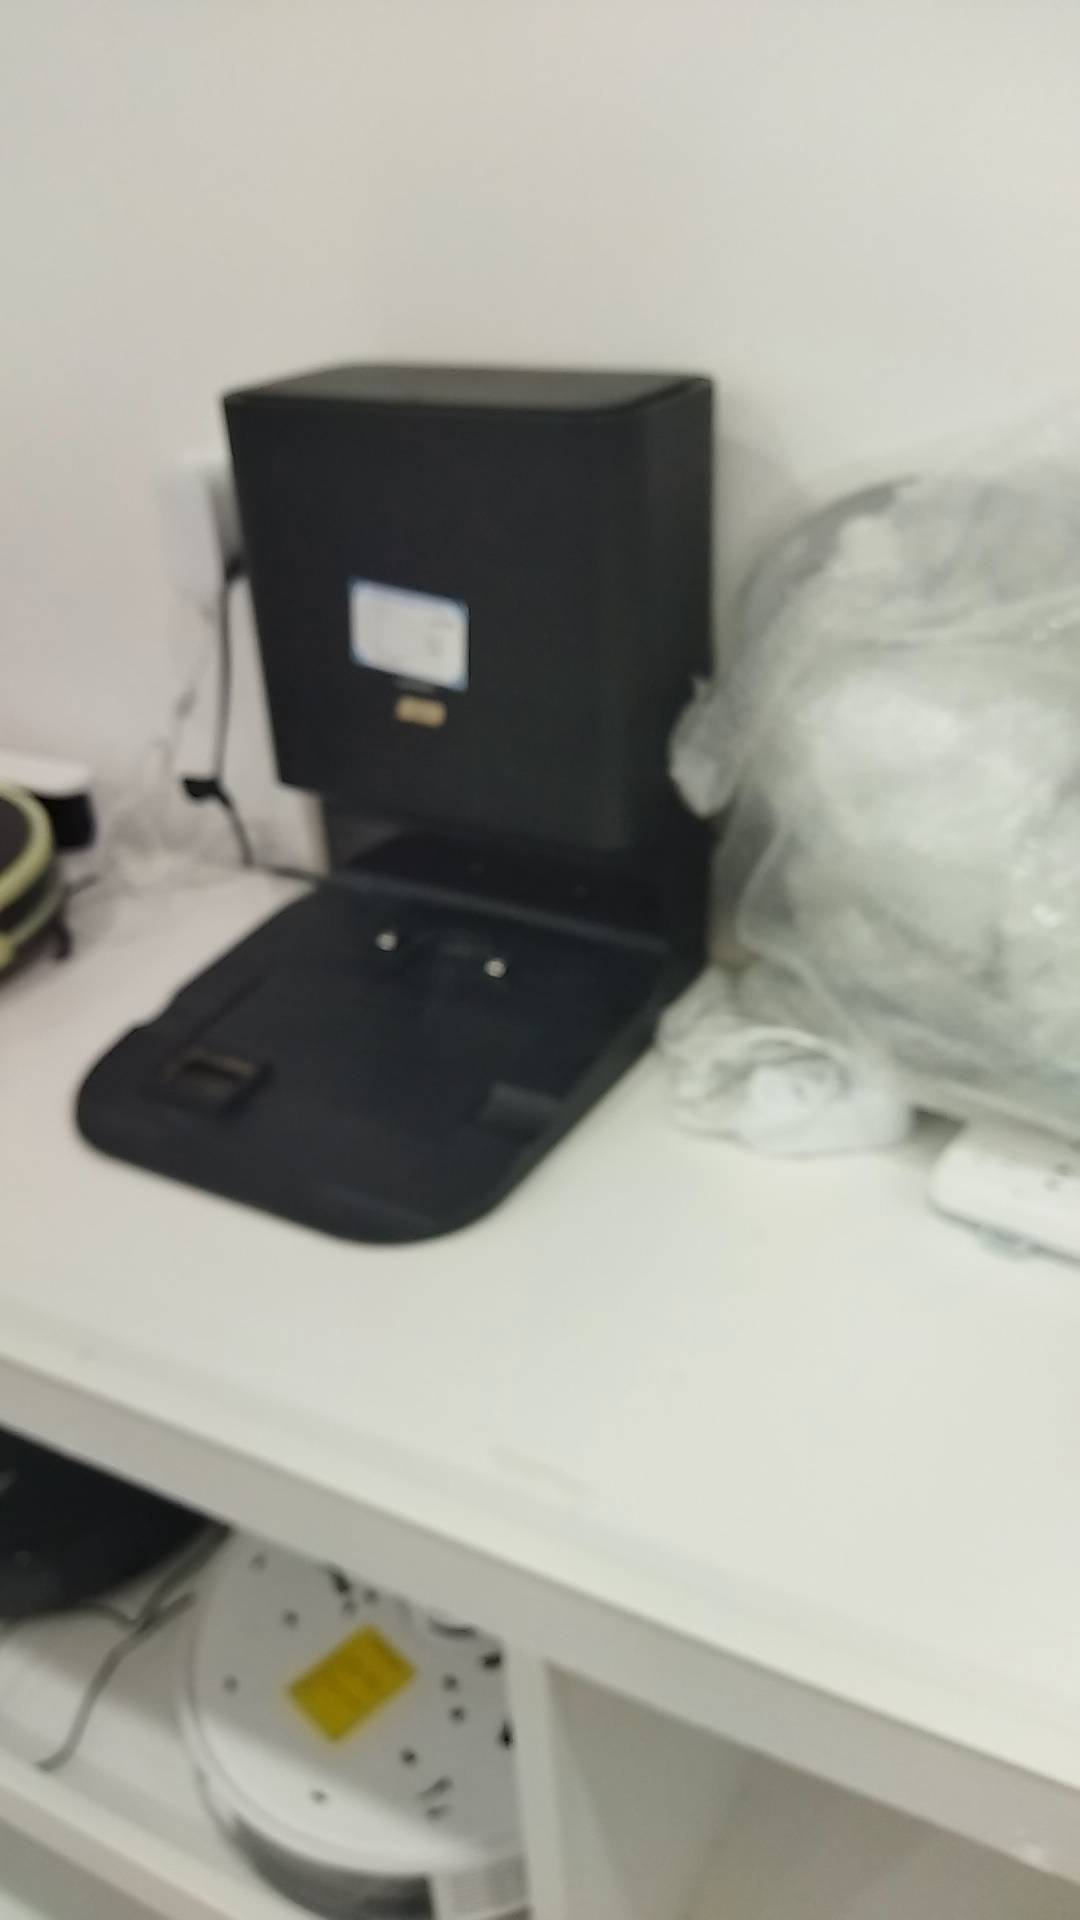dust collecting barrel: (73, 364, 732, 1246)
